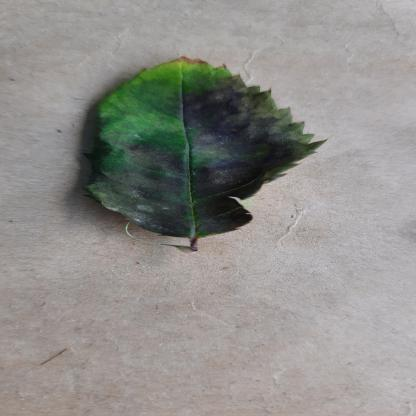powdery-mildew: (74, 58, 328, 240)
